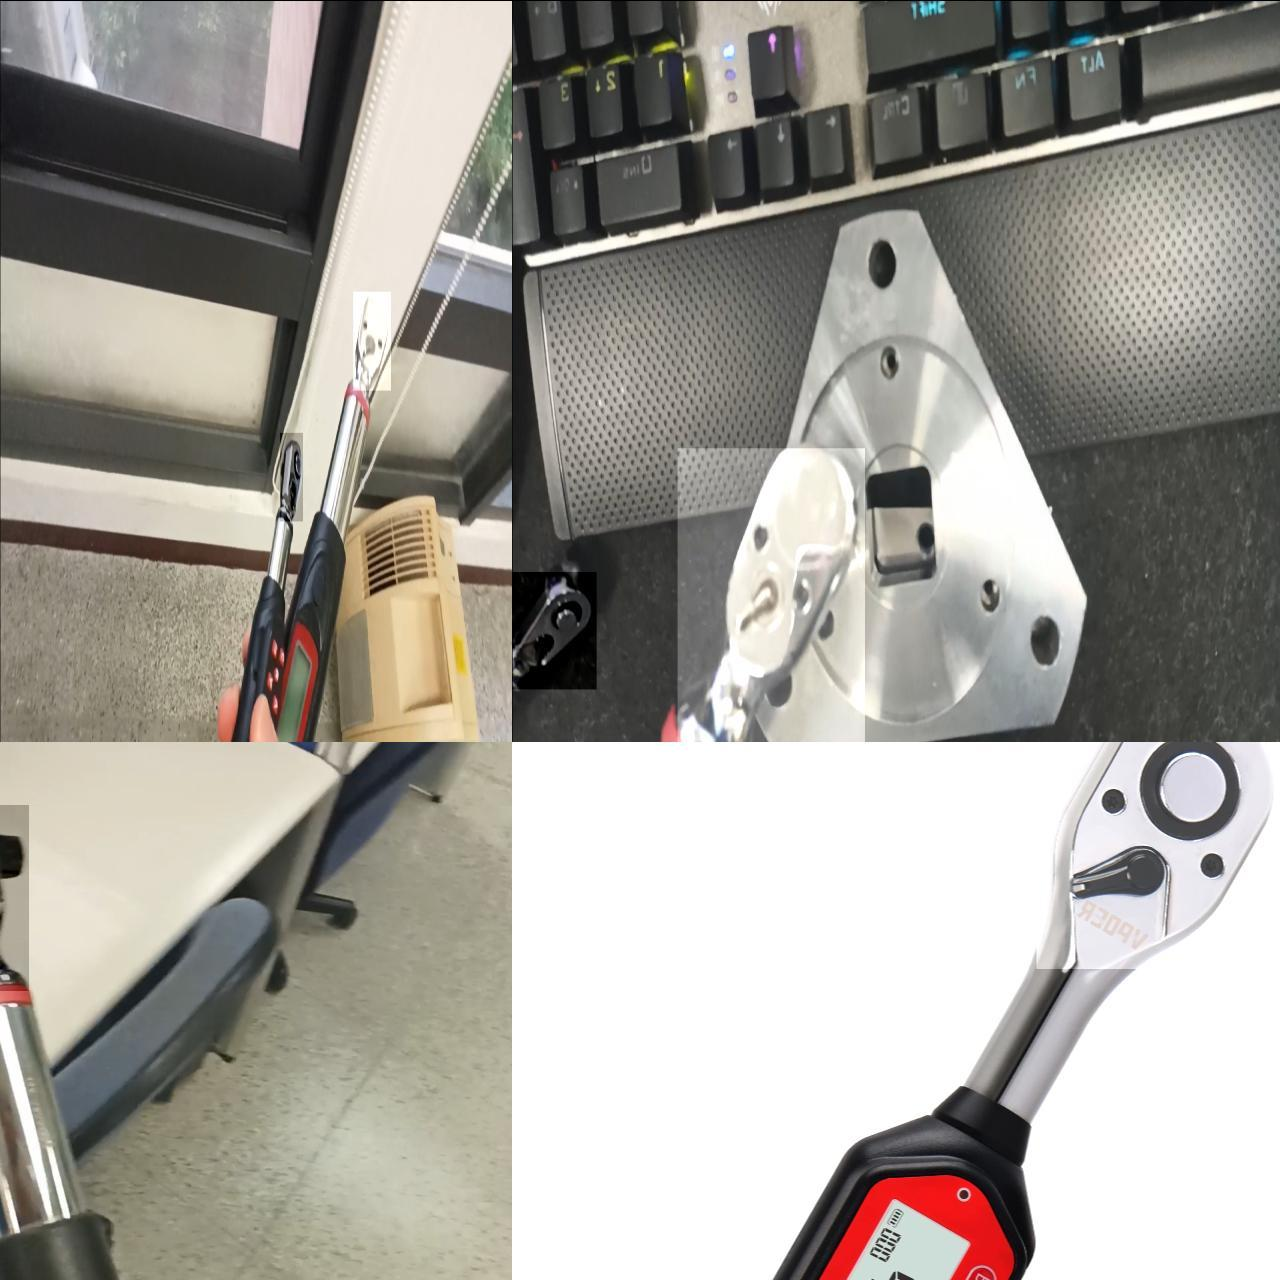Tool: (1036, 742, 1280, 968), (678, 447, 864, 742), (512, 571, 595, 688), (0, 803, 28, 990), (353, 291, 390, 389), (279, 433, 302, 520)
